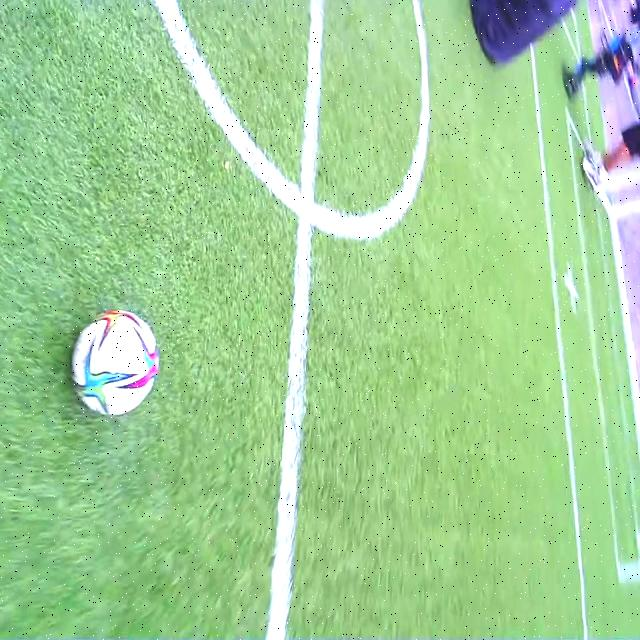ball: (73, 309, 157, 416)
